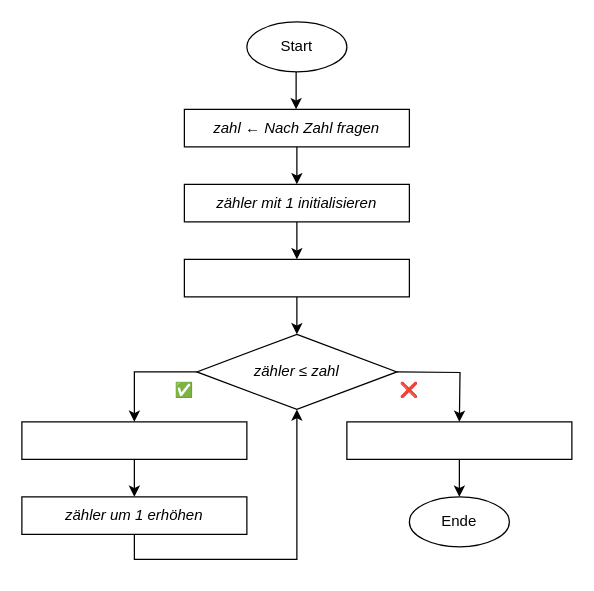
The diagram is 594 pixels wide and 591 high, and some of its shapes have lost their labels. The centre of each missing label's shape, as x and y in pixels:
summe ausgeben: [459,440]
summe mit 0 initialisieren: [296,277]
summe um 1/zähler erhöhen: [134,440]
